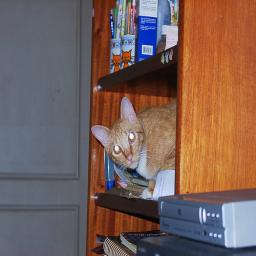catnose: (124, 148, 134, 162)
